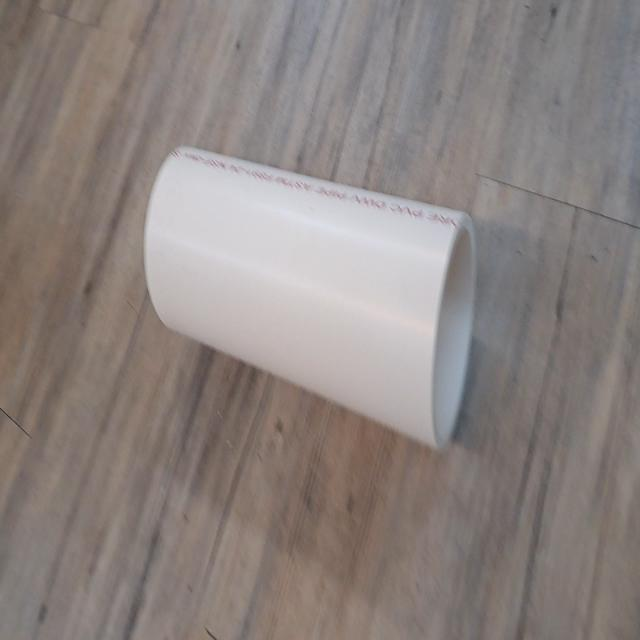CORAL: (144, 137, 479, 460)
